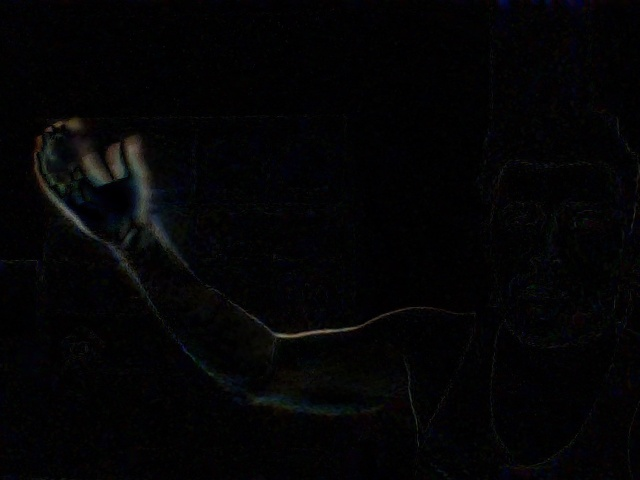arm_fo: (24, 114, 270, 379)
